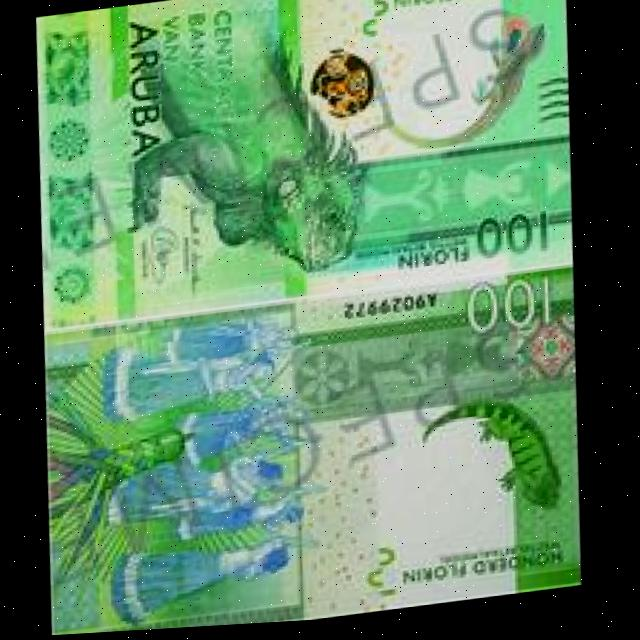banknote: (38, 272, 598, 637), (21, 0, 580, 334)
